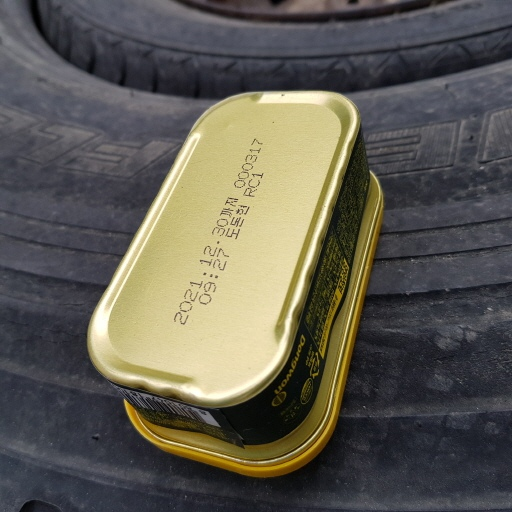Metal_2: (85, 88, 386, 480)
